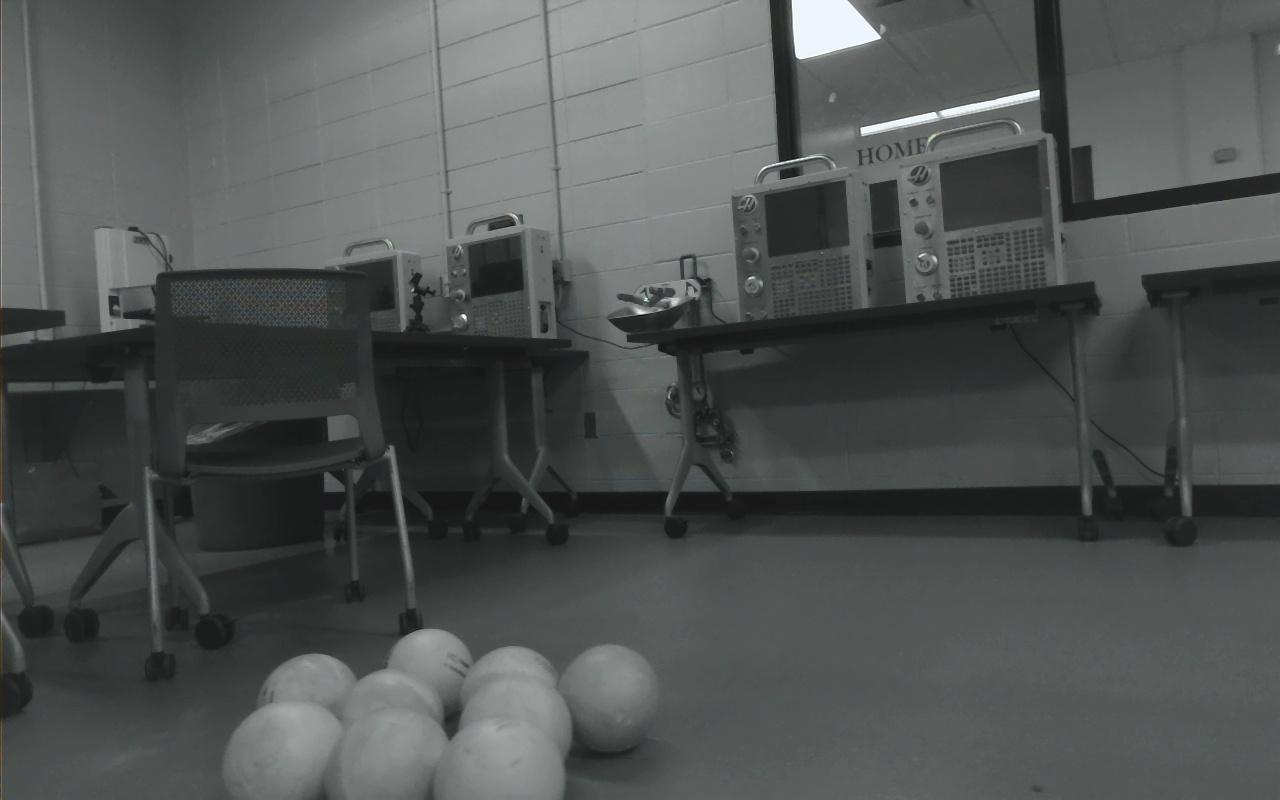Fuel: (221, 700, 343, 800), (333, 707, 457, 800), (557, 644, 659, 755), (433, 716, 566, 800), (457, 673, 573, 768), (337, 669, 447, 746), (255, 654, 357, 733), (387, 628, 472, 719), (460, 647, 562, 714)
